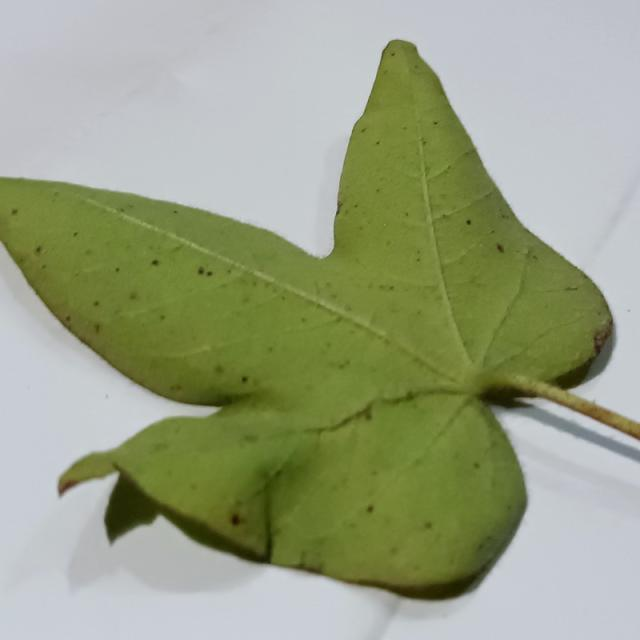Bacterial_Blight: (592, 322, 612, 355), (229, 500, 252, 526), (291, 557, 322, 575), (491, 240, 514, 257), (190, 264, 211, 280), (296, 550, 310, 568), (361, 405, 374, 421), (242, 432, 260, 443), (335, 359, 349, 370), (230, 513, 241, 526), (377, 284, 396, 291), (169, 383, 183, 392), (462, 338, 472, 350), (214, 364, 224, 374), (564, 285, 579, 291), (336, 201, 343, 213), (129, 292, 138, 300), (34, 245, 42, 254), (366, 504, 374, 513), (424, 521, 433, 529), (522, 247, 530, 256), (241, 375, 249, 383), (330, 292, 338, 300), (266, 345, 274, 353), (94, 324, 101, 333), (226, 266, 233, 275), (151, 259, 159, 266), (473, 461, 480, 469), (345, 304, 352, 312), (436, 238, 442, 247), (93, 300, 100, 307), (11, 208, 18, 215), (72, 231, 79, 237), (160, 314, 166, 321), (65, 315, 71, 322), (300, 317, 306, 324), (597, 309, 603, 316), (416, 309, 422, 316), (466, 219, 472, 225), (360, 127, 366, 133), (415, 256, 421, 262), (404, 211, 410, 217), (120, 207, 126, 213), (41, 263, 47, 269), (413, 64, 419, 70), (382, 222, 388, 228), (115, 267, 120, 273), (433, 121, 439, 126), (173, 210, 179, 215), (422, 140, 427, 146), (390, 52, 396, 57), (376, 187, 381, 193), (281, 295, 286, 301), (375, 140, 380, 145), (353, 203, 358, 208), (104, 394, 109, 399), (627, 309, 632, 313)
Cotton: (0, 40, 639, 597)
